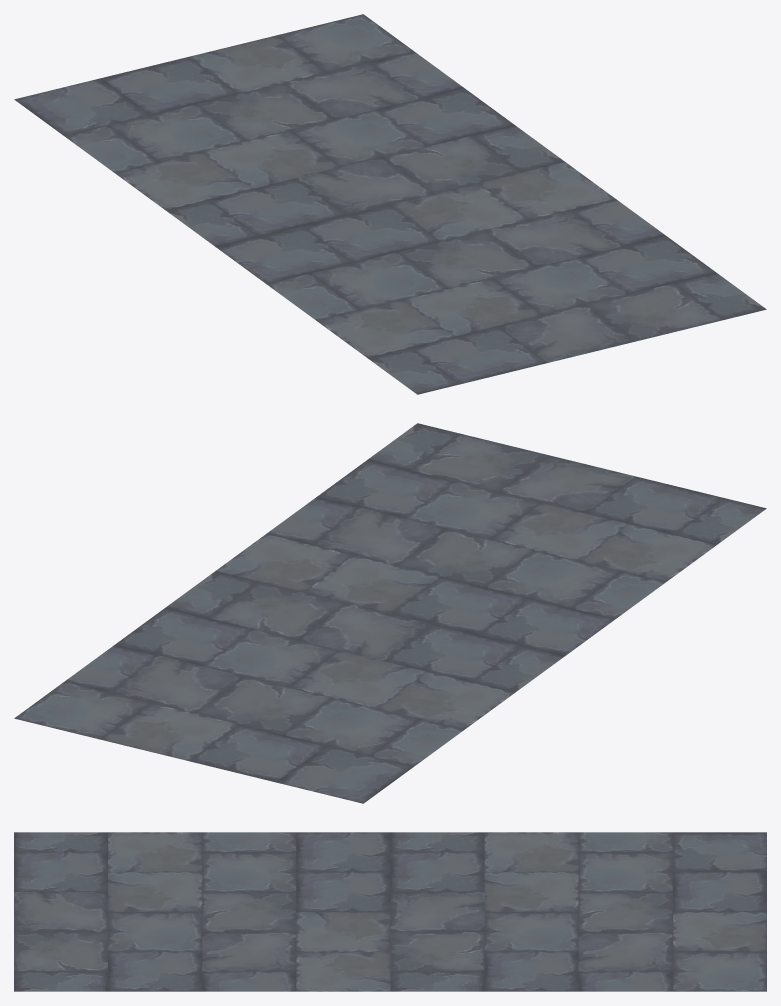
File: Castle Ground X Bright 4x8.fbx
The picture shows the model from 3 angles, top to bottom: view 1: azimuth 30°, elevation 25°; view 2: azimuth 150°, elevation 25°; view 3: azimuth 270°, elevation 25°; orthographic projection. The views are drawn at different scales.
Visible parts, largest first — view 1: Castle Ground X Bright 4x8; view 2: Castle Ground X Bright 4x8; view 3: Castle Ground X Bright 4x8.
Boxes of the visible parts, x1=… form: Castle Ground X Bright 4x8: x1=14, y1=14, x2=766, y2=394; Castle Ground X Bright 4x8: x1=14, y1=423, x2=766, y2=803; Castle Ground X Bright 4x8: x1=14, y1=832, x2=766, y2=991.
Size of the model in its own units: 3 by 8.05e-07 by 6.
